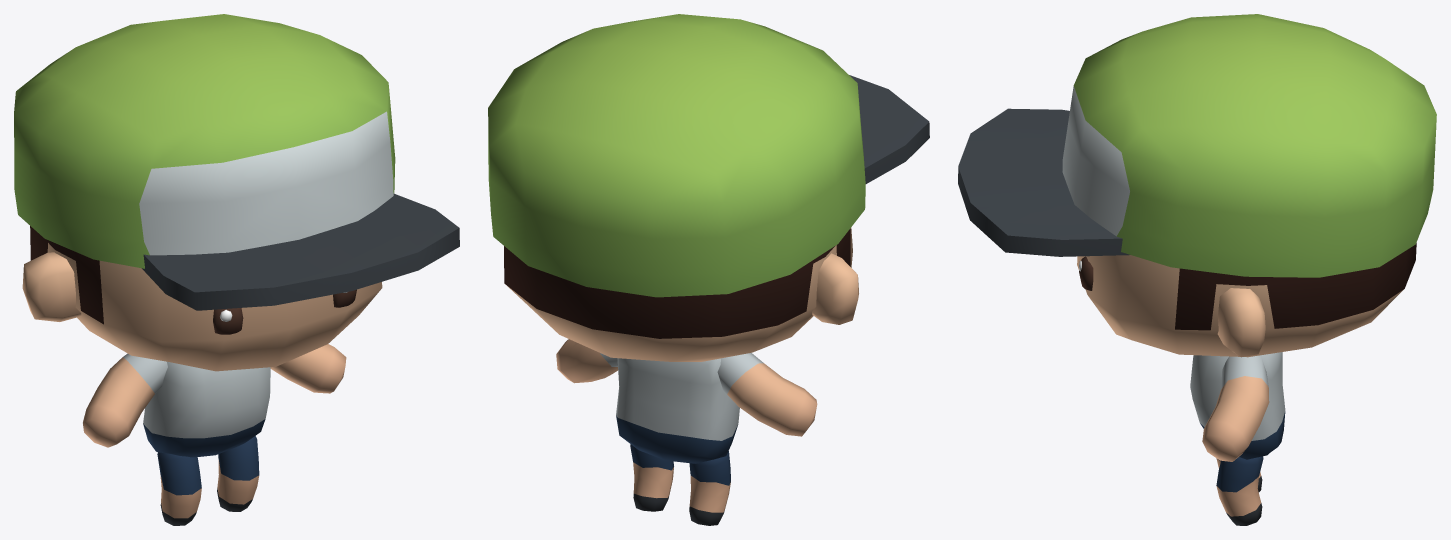
The model's file is jump_0011.obj.
The picture shows the model from 3 angles, left to right: view 1: azimuth 30°, elevation 25°; view 2: azimuth 150°, elevation 25°; view 3: azimuth 270°, elevation 25°; orthographic projection.
Parts seen in each view (by area): view 1: Object_41, Object_42, Object_44, Object_36, Object_38; view 2: Object_41, Object_44, Object_36, Object_42; view 3: Object_41, Object_36, Object_42, Object_44.
Part boxes in pixels (x1,y1,x2,y2): Object_41: [14, 14, 395, 268]; Object_42: [139, 111, 459, 310]; Object_44: [83, 344, 346, 525]; Object_36: [22, 226, 382, 371]; Object_38: [213, 289, 356, 334]; Object_41: [488, 14, 865, 297]; Object_44: [556, 339, 817, 525]; Object_36: [504, 227, 858, 361]; Object_42: [849, 75, 929, 183]; Object_41: [1073, 14, 1436, 277]; Object_36: [1077, 243, 1416, 357]; Object_42: [958, 86, 1129, 256]; Object_44: [1190, 352, 1285, 525].
Size of the model in its own units: 0.9691 by 1.22 by 1.13.
